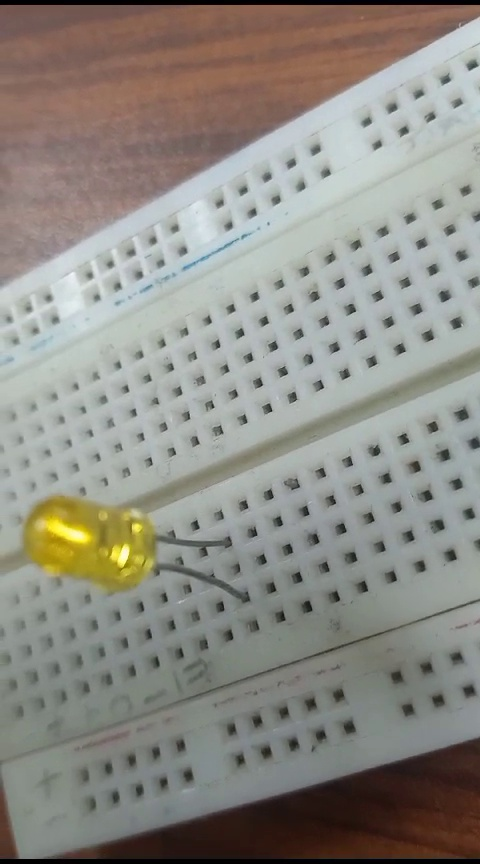LED: (22, 491, 270, 623)
